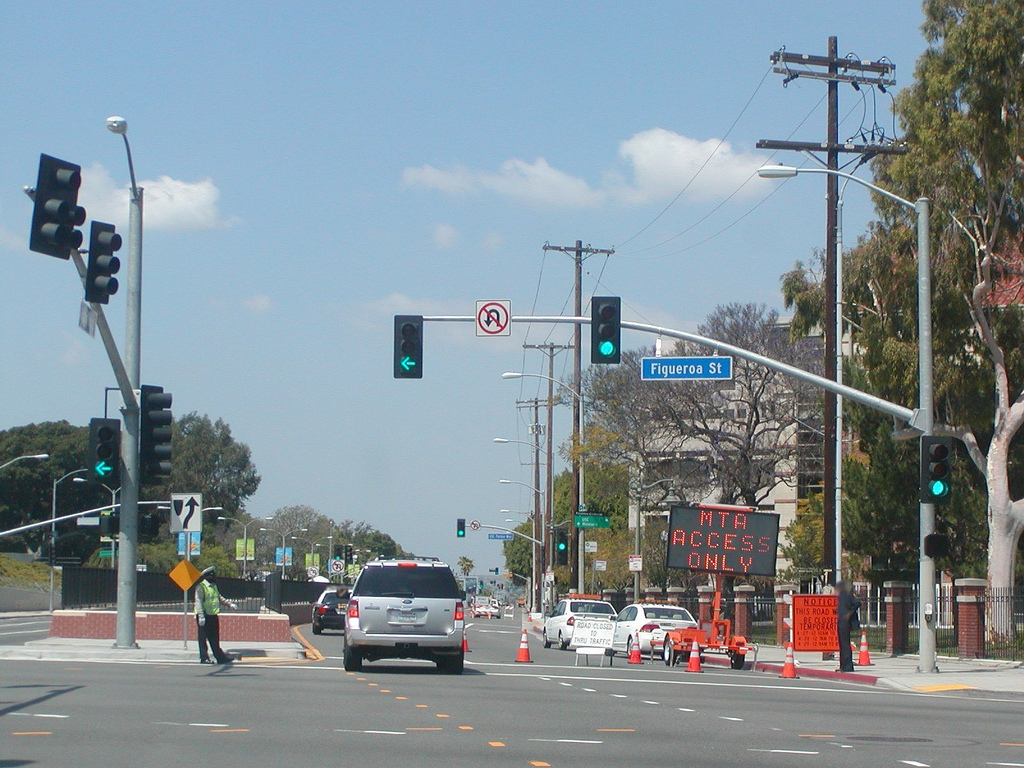traffic_light: (589, 295, 623, 366), (920, 434, 954, 505), (87, 416, 122, 484), (392, 313, 425, 380)
